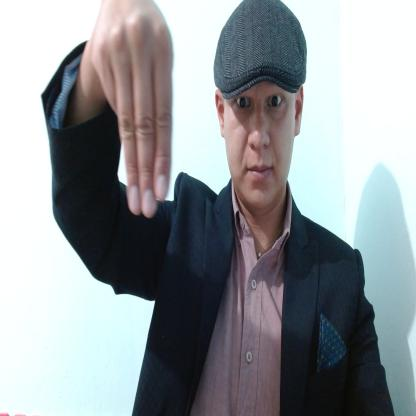M: (89, 0, 174, 219)
